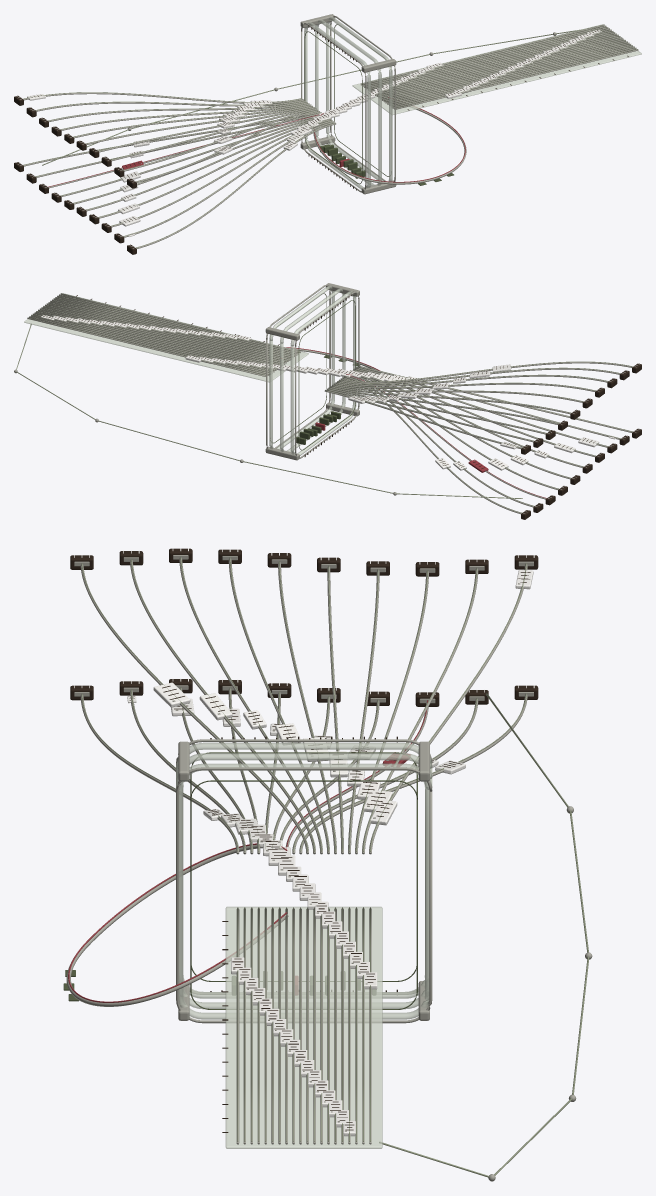
The model's file is payroll.glb.
3 renders of one model, top to bottom at view 1: azimuth 30°, elevation 25°; view 2: azimuth 150°, elevation 25°; view 3: azimuth 270°, elevation 25°, orthographic. The views are drawn at different scales.
Visible parts, largest first — view 1: Payroll_NormalizedRibbonSkin, Payroll_ContractGlass_2, Payroll_ContractGlass_0, Payroll_ContractGlass_1, Payroll_ObservabilityTrace, Payroll_ContractPrecisionRim_1, Payroll_ContractPrecisionRim_0, Payroll_RetryRoute, Payroll_InputLane_17, Payroll_InputLane_18, Payroll_InputLane_19, Payroll_InputLane_16 (+37 smaller); view 2: Payroll_NormalizedRibbonSkin, Payroll_ContractGlass_0, Payroll_ContractGlass_2, Payroll_ContractGlass_1, Payroll_ObservabilityTrace, Payroll_ContractPrecisionRim_1, Payroll_ContractPrecisionRim_0, Payroll_InputLane_10, Payroll_InputLane_11, Payroll_InputLane_12, Payroll_InputLane_13, Payroll_InputLane_14 (+28 smaller); view 3: Payroll_NormalizedRibbonSkin, Payroll_ContractGlass_2, Payroll_ContractGlass_1, Payroll_ContractPrecisionRim_1, Payroll_ContractGlass_0, Payroll_RetryRoute, Payroll_ObservabilityTrace, Payroll_ContractInnerTrace_1, Payroll_ContractPrecisionRim_0, Payroll_InputLane_10, Payroll_RetryRouteSignal, Payroll_InputLane_14 (+1 smaller).
Boxes of the visible parts, <box> form: Payroll_NormalizedRibbonSkin: <box>352,24,641,114</box>; Payroll_ContractGlass_2: <box>326,17,392,181</box>; Payroll_ContractGlass_0: <box>304,22,370,189</box>; Payroll_ContractGlass_1: <box>315,19,381,185</box>; Payroll_ObservabilityTrace: <box>42,29,579,165</box>; Payroll_ContractPrecisionRim_1: <box>330,16,395,181</box>; Payroll_ContractPrecisionRim_0: <box>301,23,366,192</box>; Payroll_RetryRoute: <box>313,98,466,184</box>; Payroll_InputLane_17: <box>48,101,305,121</box>; Payroll_InputLane_18: <box>36,99,304,111</box>; Payroll_InputLane_19: <box>23,92,302,103</box>; Payroll_InputLane_16: <box>61,102,307,130</box>; Payroll_NormalizedRibbonSkin: <box>24,293,308,382</box>; Payroll_ContractGlass_0: <box>290,291,356,455</box>; Payroll_ContractGlass_2: <box>269,286,334,449</box>; Payroll_ContractGlass_1: <box>280,288,345,451</box>; Payroll_ObservabilityTrace: <box>16,323,522,498</box>; Payroll_ContractPrecisionRim_1: <box>266,284,330,448</box>; Payroll_ContractPrecisionRim_0: <box>295,292,359,458</box>; Payroll_InputLane_10: <box>340,362,632,382</box>; Payroll_InputLane_11: <box>338,368,620,384</box>; Payroll_InputLane_12: <box>337,375,607,386</box>; Payroll_InputLane_13: <box>335,382,595,391</box>; Payroll_InputLane_14: <box>333,384,583,402</box>; Payroll_NormalizedRibbonSkin: <box>225,906,382,1148</box>; Payroll_ContractGlass_2: <box>176,763,432,1019</box>; Payroll_ContractGlass_1: <box>176,753,432,1009</box>; Payroll_ContractPrecisionRim_1: <box>176,767,432,1023</box>; Payroll_ContractGlass_0: <box>176,742,432,998</box>; Payroll_RetryRoute: <box>66,844,288,1006</box>; Payroll_ObservabilityTrace: <box>379,693,589,1177</box>; Payroll_ContractInnerTrace_1: <box>190,780,417,1009</box>; Payroll_ContractPrecisionRim_0: <box>176,739,432,994</box>; Payroll_InputLane_10: <box>80,564,308,854</box>; Payroll_RetryRouteSignal: <box>68,843,287,1002</box>; Payroll_InputLane_14: <box>278,562,336,854</box>.
Size of what is drawn, in the model's own units: 11.63 by 2.65 by 4.93.
